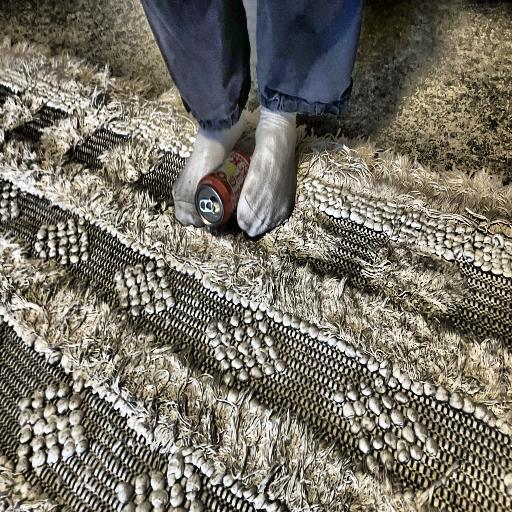koff: (189, 142, 262, 236)
